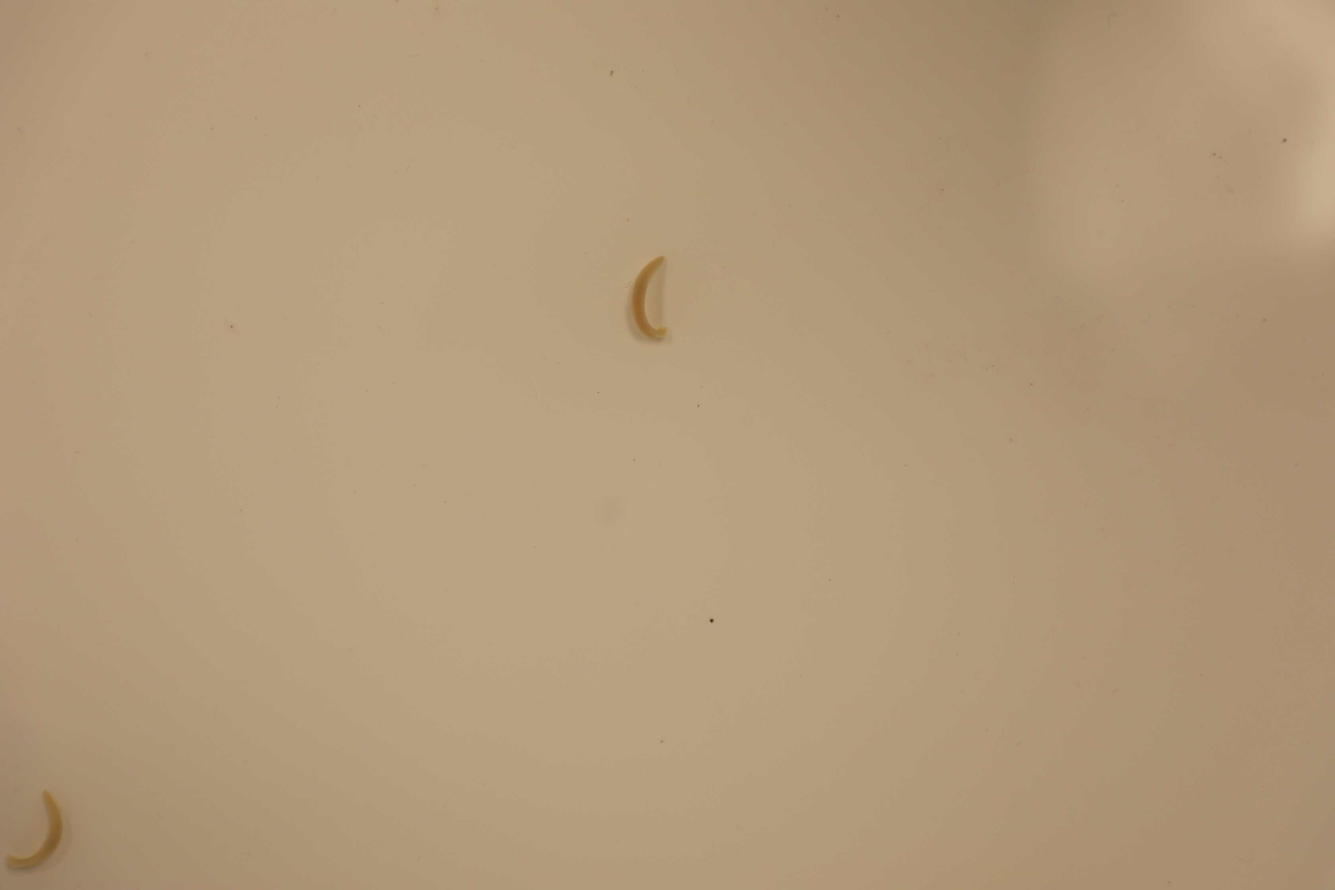Cadisfly: (4, 788, 63, 877), (629, 252, 670, 342)
